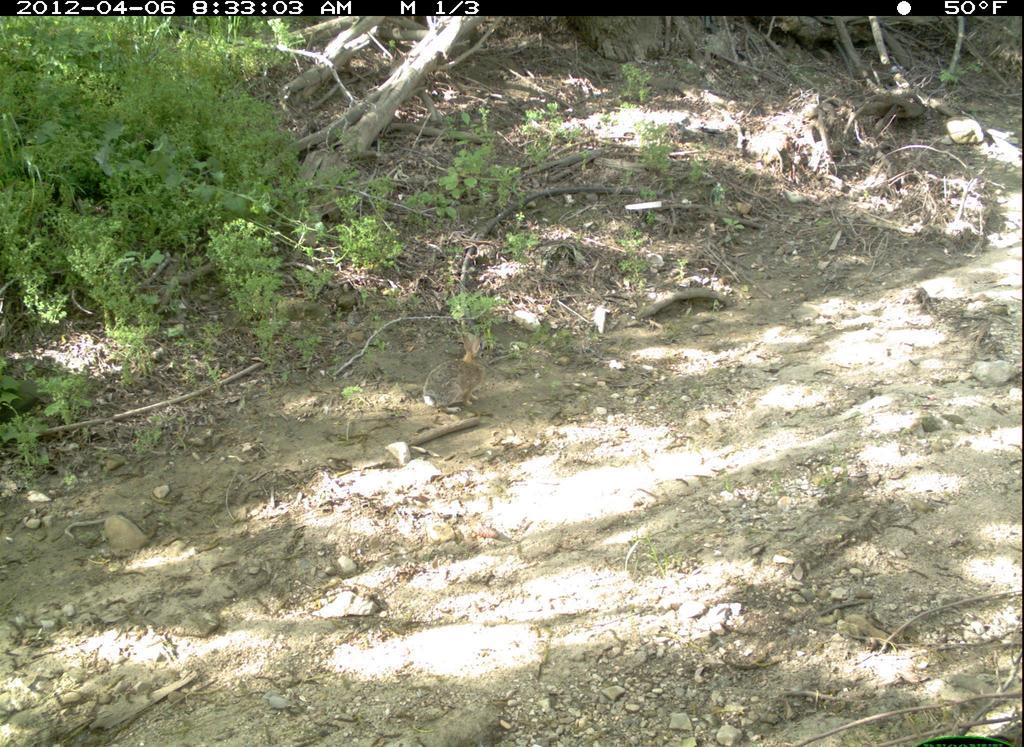rabbit: (419, 324, 504, 429)
